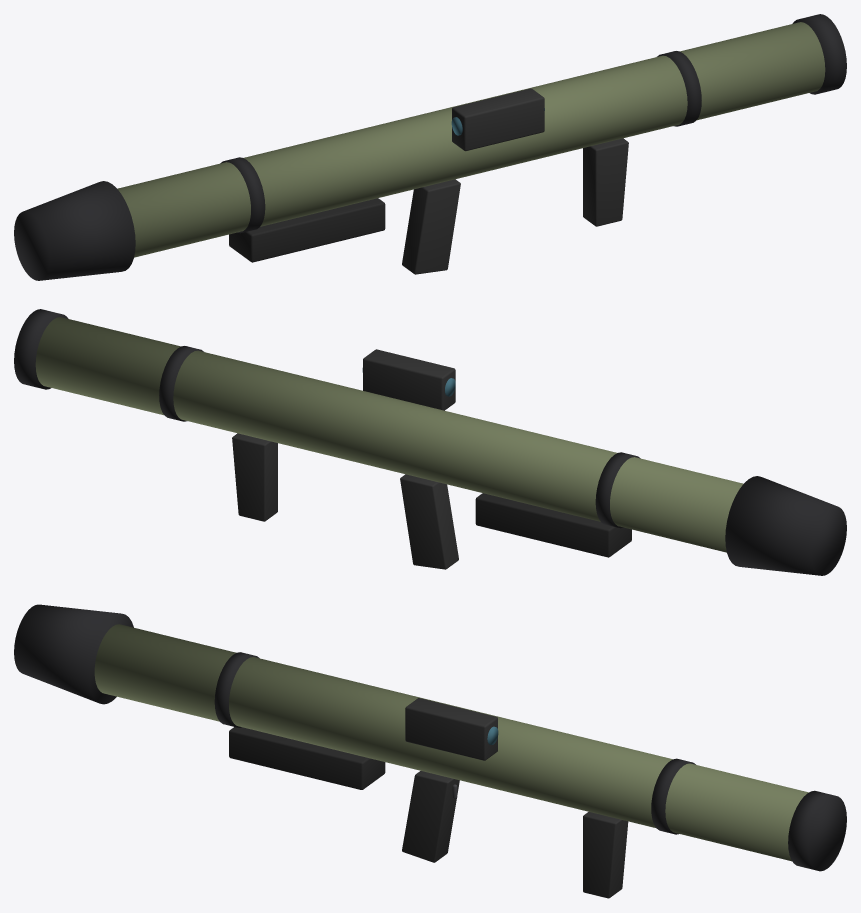
File: SM_CarlGustaf.glb
The picture shows the model from 3 angles, top to bottom: view 1: azimuth 30°, elevation 25°; view 2: azimuth 150°, elevation 25°; view 3: azimuth 330°, elevation 25°; orthographic projection.
Parts seen in each view (by area): view 1: SM_CarlGustaf; view 2: SM_CarlGustaf; view 3: SM_CarlGustaf.
Boxes of the visible parts, x1,y1,x2,y2 form: SM_CarlGustaf: (14,14,846,280); SM_CarlGustaf: (14,309,846,575); SM_CarlGustaf: (14,604,846,898).
Size of the model in its own units: 1.19 by 0.2448 by 0.1375.
